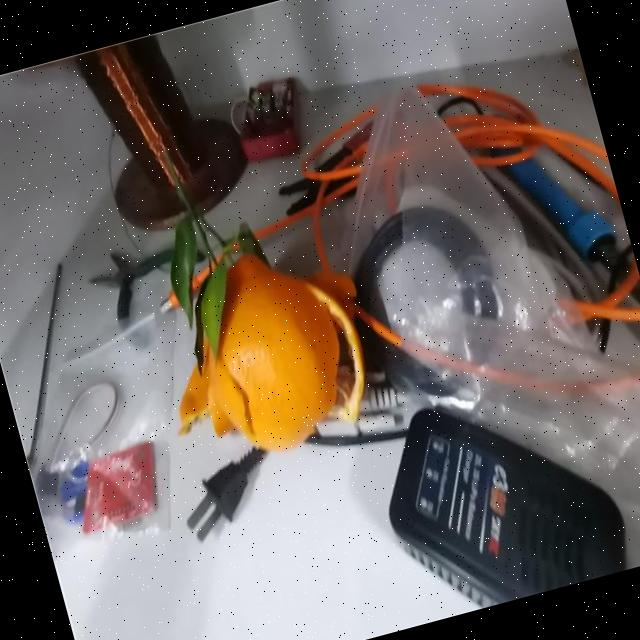orange-peel: (140, 228, 386, 474)
